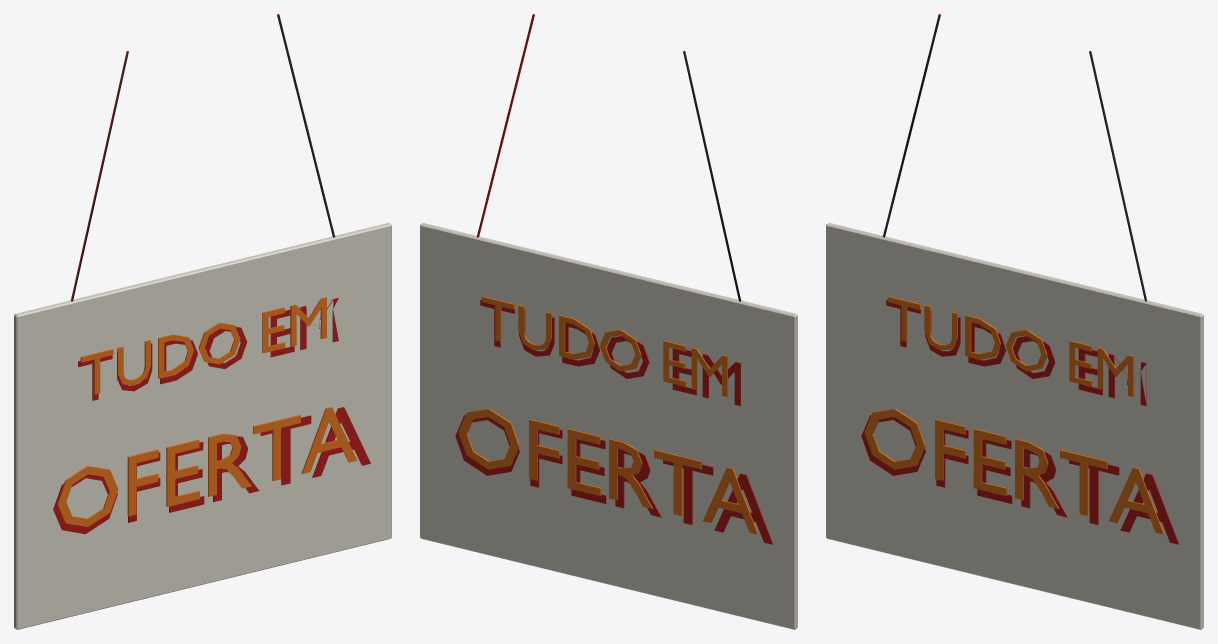
File: PlacaPenduradaOferta.fbx
3 views of the same model, side by side, from view 1: azimuth 30°, elevation 25°; view 2: azimuth 150°, elevation 25°; view 3: azimuth 330°, elevation 25° (orthographic).
Parts seen in each view (by area): view 1: PlacaPenduradaOferta; view 2: PlacaPenduradaOferta; view 3: PlacaPenduradaOferta.
Part boxes in pixels (x1,y1,x2,y2): PlacaPenduradaOferta: [14, 14, 391, 629]; PlacaPenduradaOferta: [420, 14, 797, 629]; PlacaPenduradaOferta: [826, 14, 1203, 629].
Size of the model in its own units: 1 by 1.4 by 0.026.
